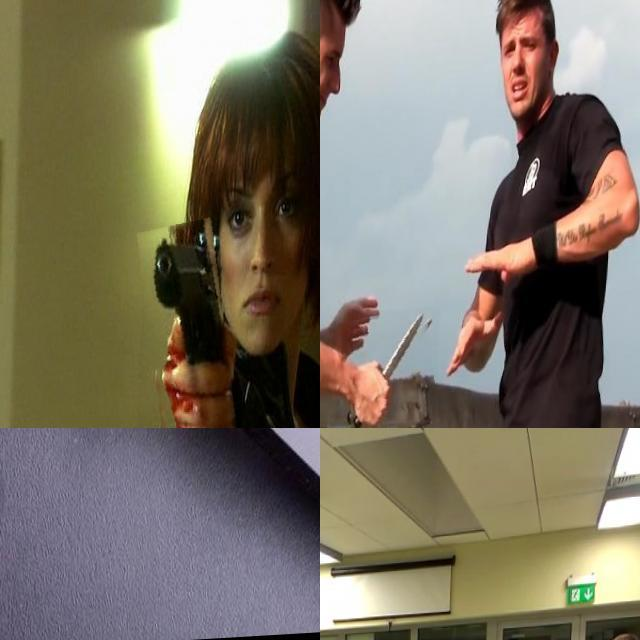-: (0, 428, 171, 570), (342, 311, 442, 428)
gun-knife-thesis - v11 Yolov5 augmented: (140, 223, 237, 428)
